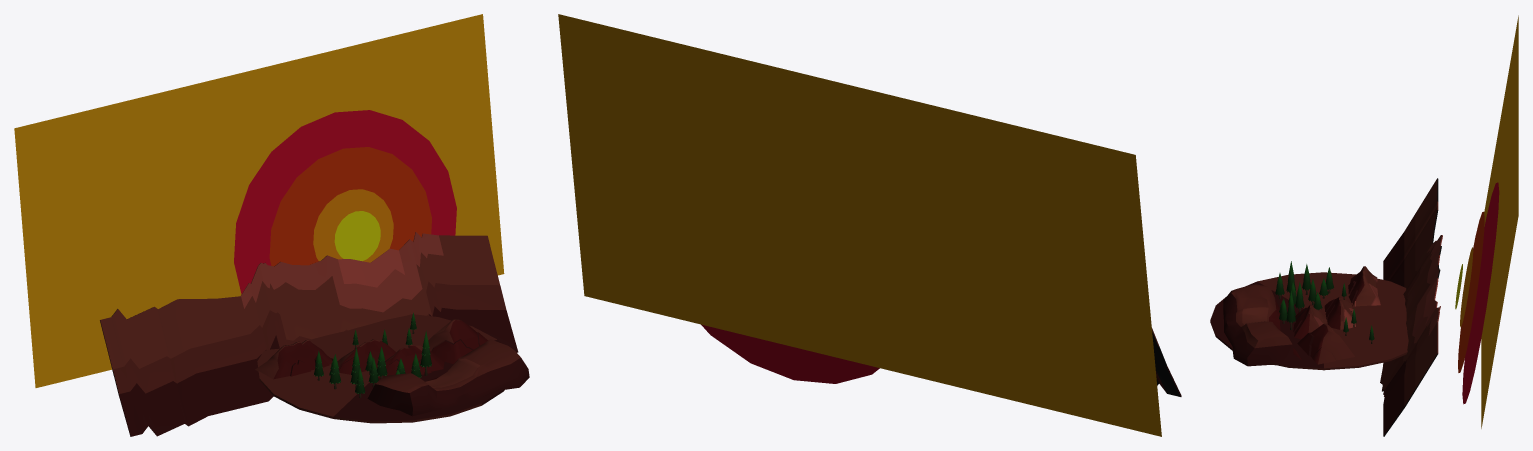
The model's file is sun.glb.
3 views of the same model, side by side, from view 1: azimuth 30°, elevation 25°; view 2: azimuth 150°, elevation 25°; view 3: azimuth 270°, elevation 25° (orthographic). The views are drawn at different scales.
Parts seen in each view (by area): view 1: pPlane1, pCube2, pasted__pasted__pCylinder2, pasted__pCylinder2 (×2), pCylinder1, pCube1, pCylinder2, pasted__pPyramid2, pasted__pasted__pasted__pPyramid2, pPyramid1, pPyramid2; view 2: pPlane1, pasted__pasted__pCylinder2, pCube2; view 3: pCube2, pCylinder1, pPlane1, pCube1, pasted__pasted__pCylinder2, pasted__pasted__pasted__pPyramid2, pasted__pCylinder2, pasted__pPyramid2, pPyramid2, pPyramid1, pCylinder2.
Part boxes in pixels (box(x1,y1,x2,y2)): pPlane1: box(14, 14, 504, 387); pCube2: box(100, 232, 518, 436); pasted__pasted__pCylinder2: box(234, 110, 456, 293); pasted__pCylinder2 (×2): box(269, 147, 431, 266); pCylinder1: box(257, 314, 504, 423); pCube1: box(367, 339, 529, 416); pCylinder2: box(313, 189, 393, 262); pasted__pPyramid2: box(255, 340, 333, 379); pasted__pasted__pasted__pPyramid2: box(422, 319, 487, 364); pPyramid1: box(376, 345, 444, 378); pPyramid2: box(337, 339, 396, 374); pPlane1: box(558, 14, 1161, 436); pasted__pasted__pCylinder2: box(701, 324, 879, 383); pCube2: box(1152, 328, 1181, 396); pCube2: box(1380, 178, 1442, 436); pCylinder1: box(1210, 272, 1408, 370); pPlane1: box(1481, 15, 1518, 428); pCube1: box(1223, 284, 1301, 366); pasted__pasted__pCylinder2: box(1462, 182, 1499, 404); pasted__pasted__pasted__pPyramid2: box(1297, 323, 1354, 364); pasted__pCylinder2: box(1458, 211, 1484, 372); pasted__pPyramid2: box(1348, 266, 1380, 306); pPyramid2: box(1324, 297, 1355, 329); pPyramid1: box(1293, 304, 1326, 339); pCylinder2: box(1460, 247, 1473, 327).
Size of the model in its own units: 83.43 by 47.94 by 54.09.
